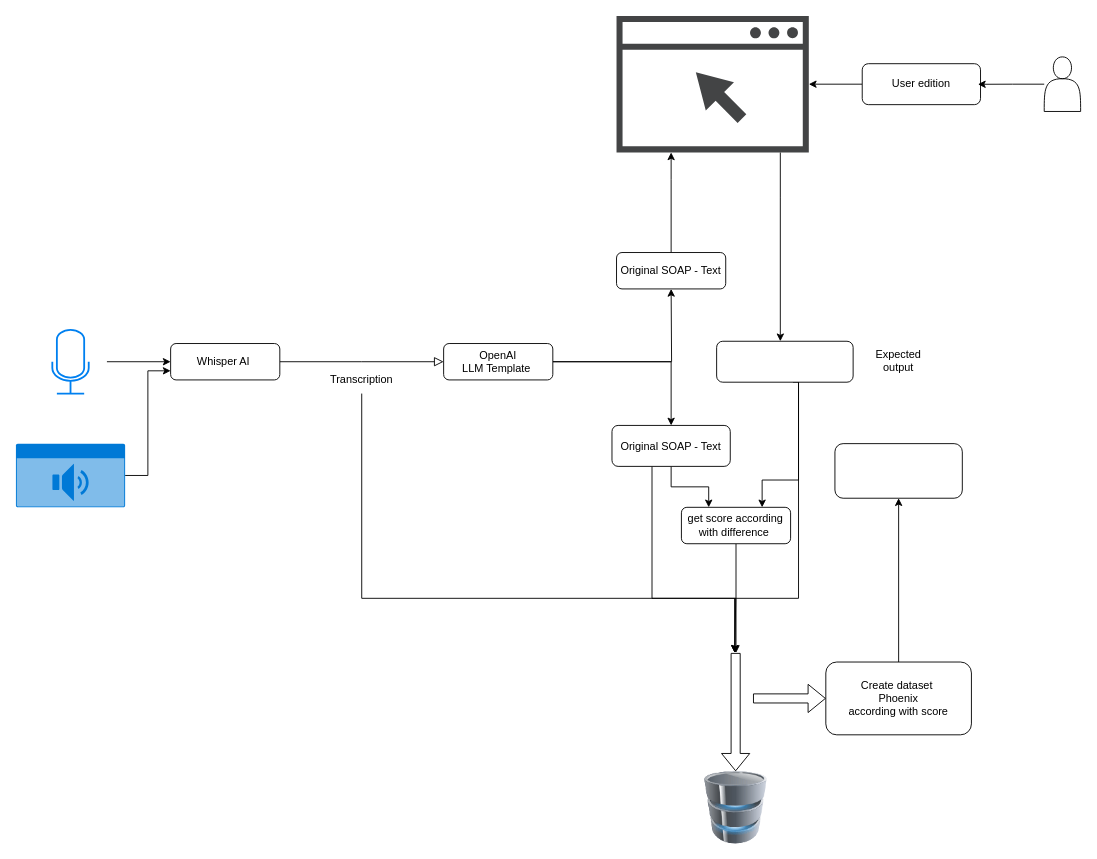
Image size: 1097x859. Some labels were removed from this diagram. The shapes that lost their labels are listed below. From the top down, each one's box as (x1, y1, x2, y2) in pixels, then its label:
(716, 340, 853, 382): User Changes to SOAP
(15, 443, 125, 507): Audio
(834, 443, 962, 498): Train model Improve Prompt
